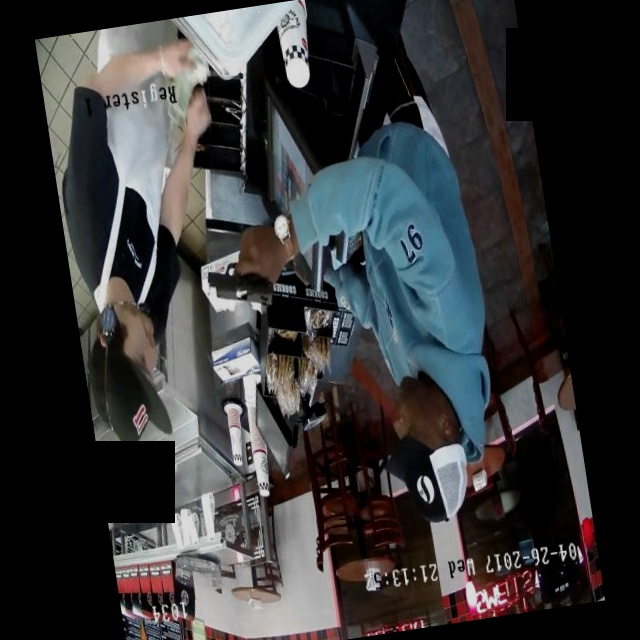gun: (195, 230, 296, 331)
